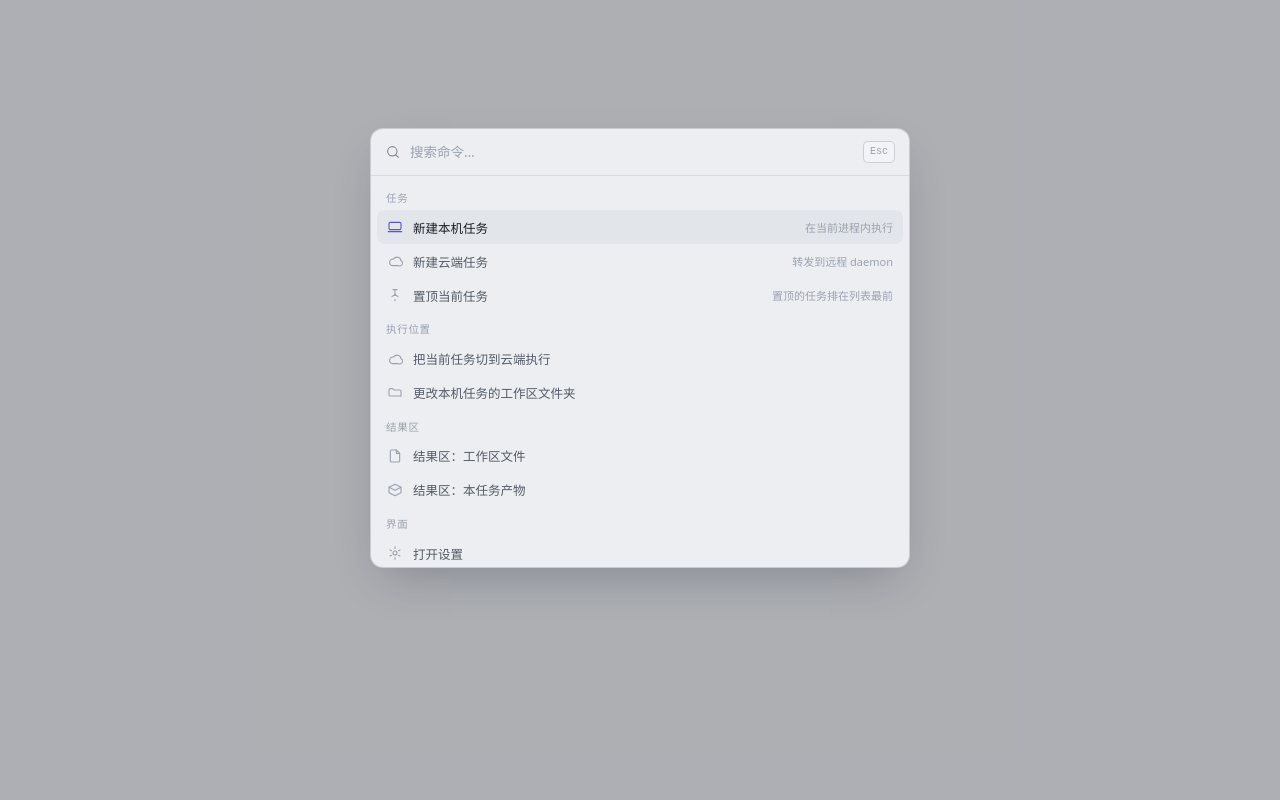
Test: 搜索 › 按关键字过滤
Type "设置" into the field with placeholder "搜索命令…" at (632, 152), box [410,141,854,163]
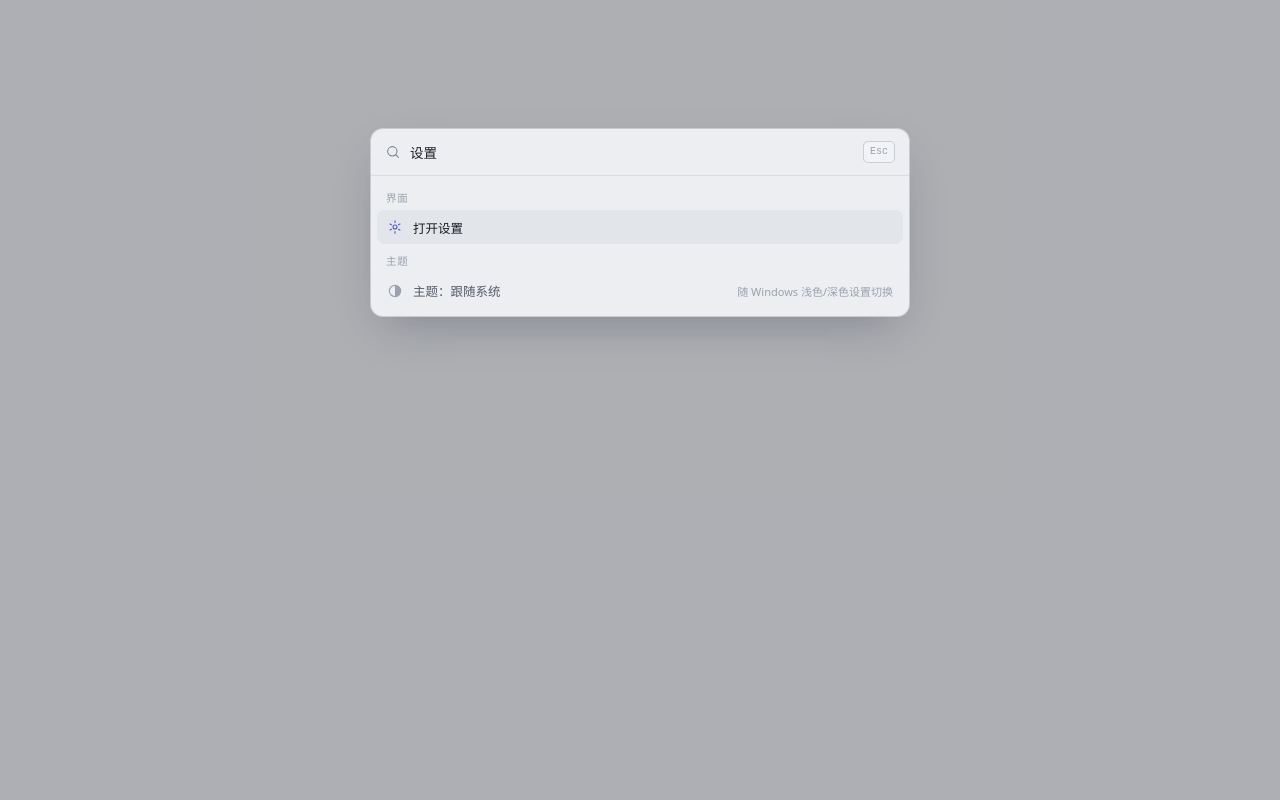
Expected: the text "打开设置" is shown, [413,220,463,237]
Expected: the button "新建本机任务" is gone
